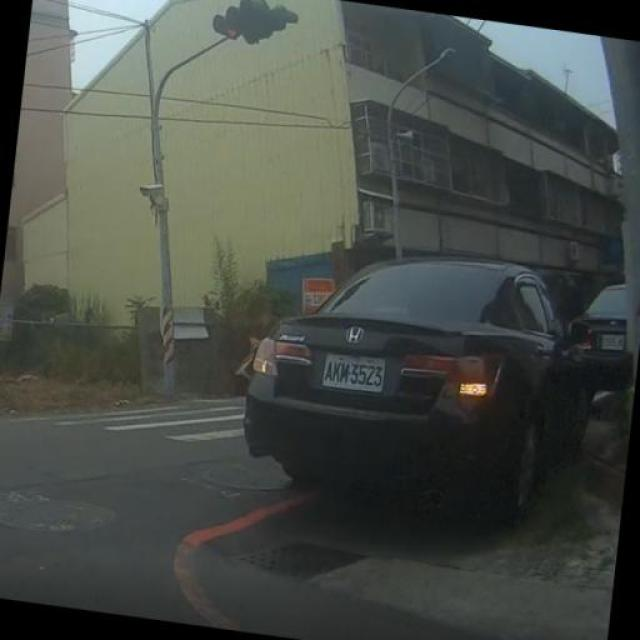illegalparking: (218, 226, 601, 551)
